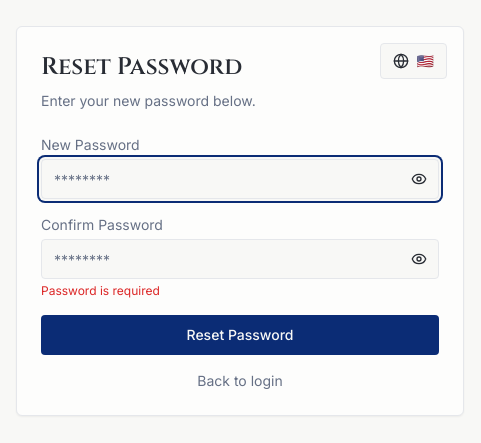
Scenario: ResetPassword page › validates password strength requirements
The width and height of the screenshot is (481, 443).
Earlier steps of the test are not shown.
Type "lowercase123!" into the password field labelled "New Password".
click(240, 179); type("lowercase123!")  # box [41,159,439,199]
Click the button "Reset Password".
click(240, 335)  # box [41,315,439,355]
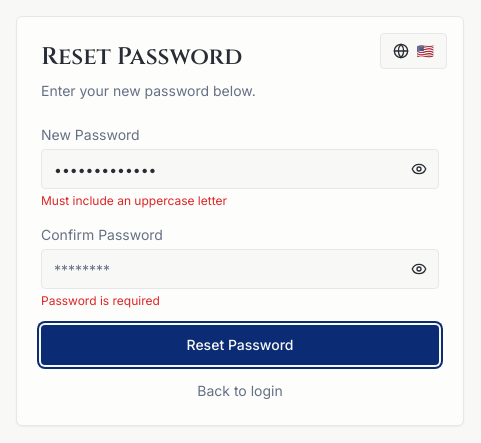
Expected: the text "Must include an uppercase letter" is shown, [41,193,227,208]
// Test missing digit
Clear the password field labelled "New Password" at (240, 169), box [41,149,439,189]
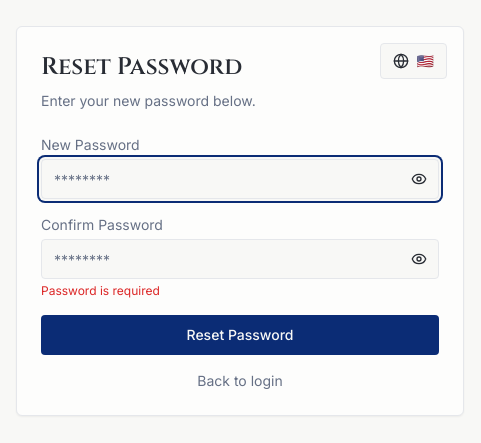
Type "NoDigitPass!" into the password field labelled "New Password".
click(240, 179); type("NoDigitPass!")  # box [41,159,439,199]
Click the button "Reset Password".
click(240, 335)  # box [41,315,439,355]
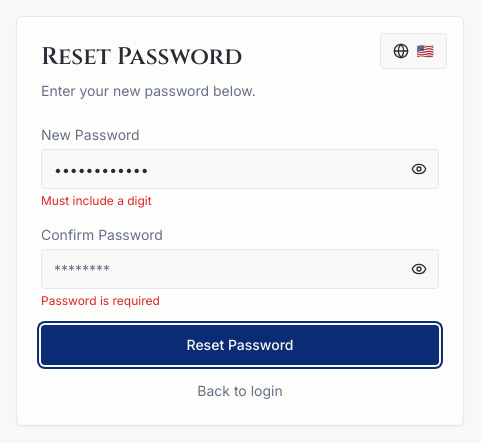
Expected: the text "Must include a digit" is shown, [41,193,152,208]
// Test missing special character
Clear the password field labelled "New Password" at (240, 169), box [41,149,439,189]
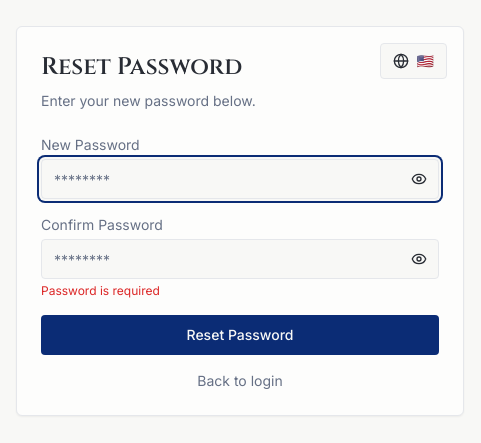
Type "NoSpecial123" into the password field labelled "New Password".
click(240, 179); type("NoSpecial123")  # box [41,159,439,199]
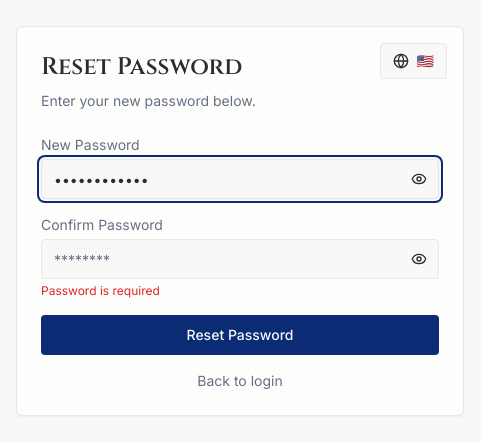
Click the button "Reset Password".
click(240, 335)  # box [41,315,439,355]
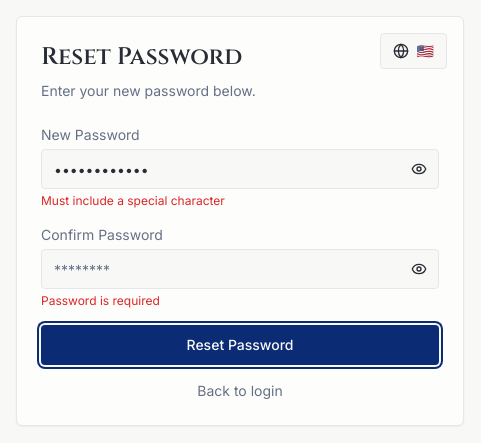
Expected: the text "Must include a special character" is shown, [41,193,225,208]
